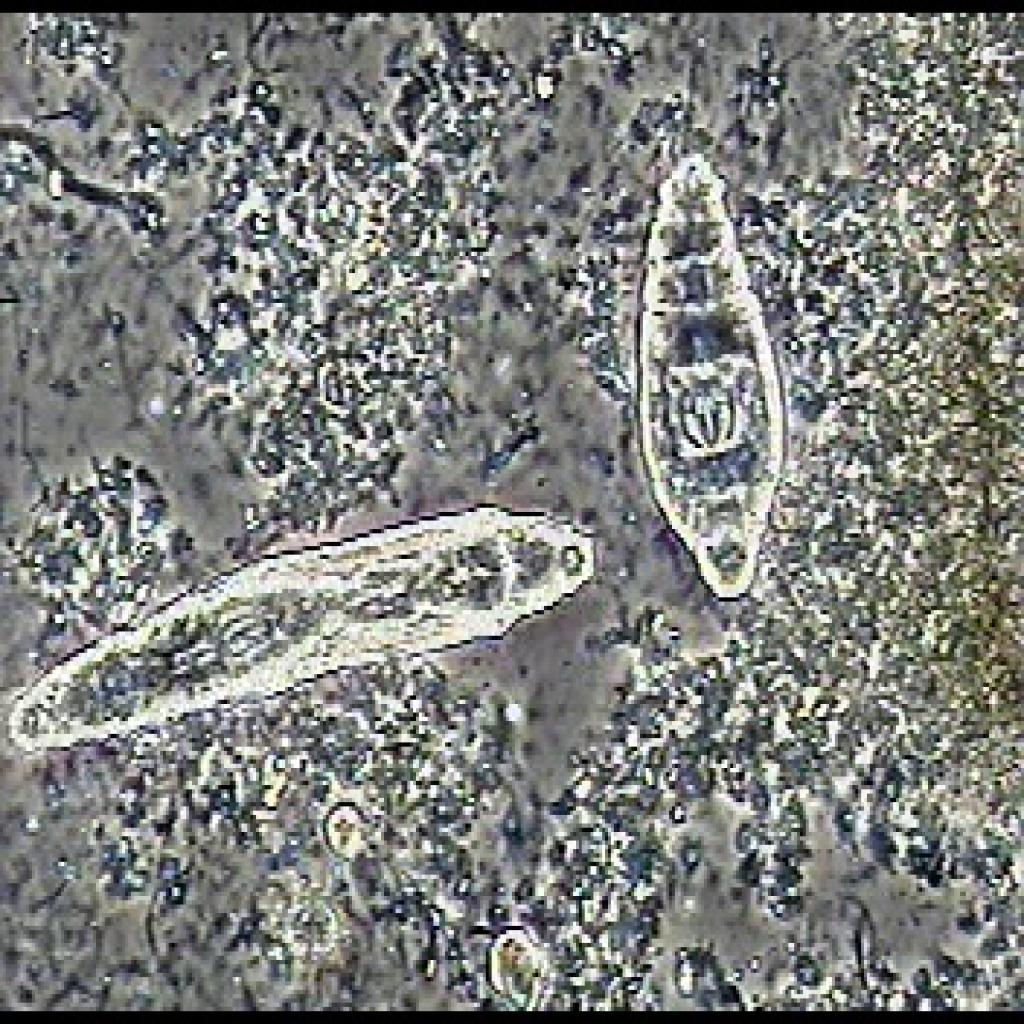Rotatoria: (0, 502, 620, 758), (621, 154, 793, 614)
